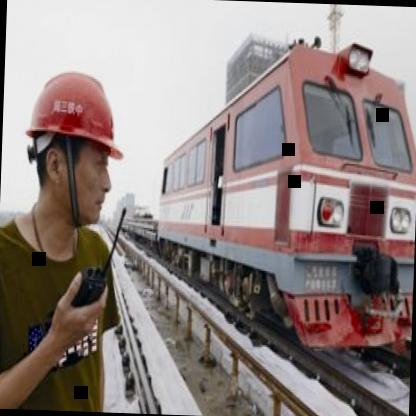helmet: (13, 51, 132, 244)
